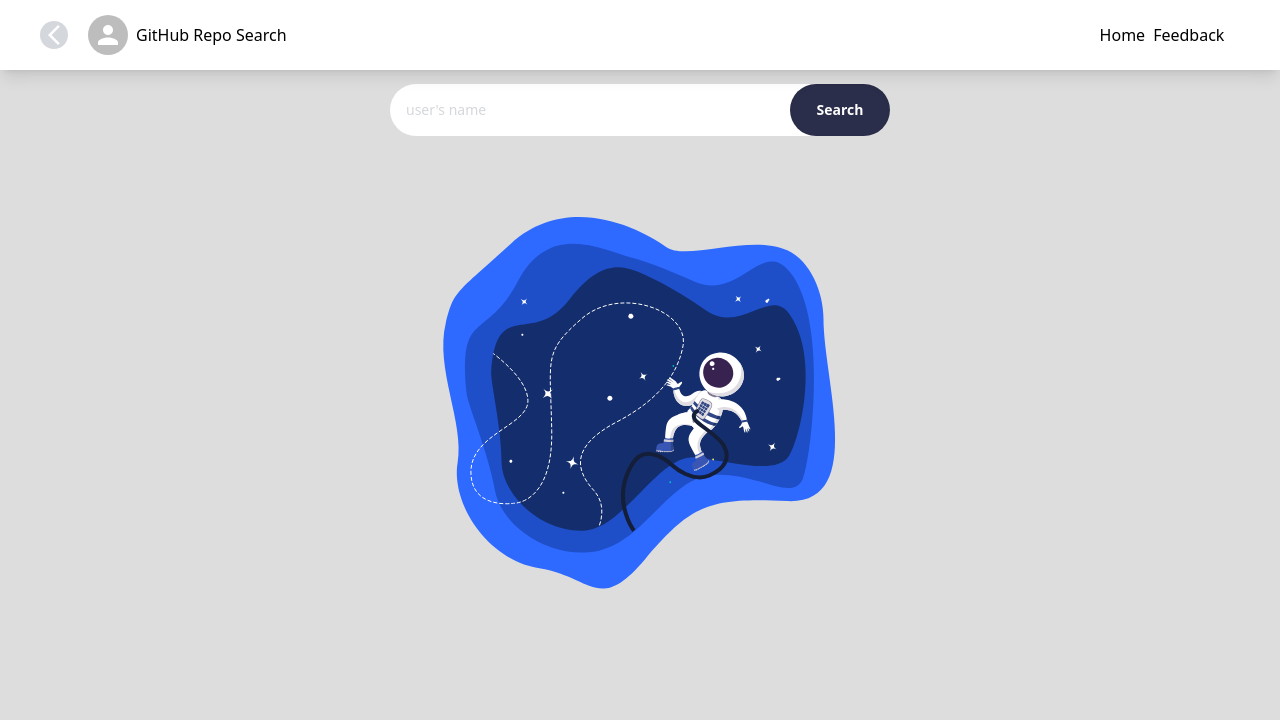
Scenario: Test HomePage search function, and navigation › Make sure searching without query string, and alert will show up
What coordinates should you click on to do the following:
click the button with id "searchBtn"
I would click on:
 (840, 110)
Its box is [790, 84, 890, 136].
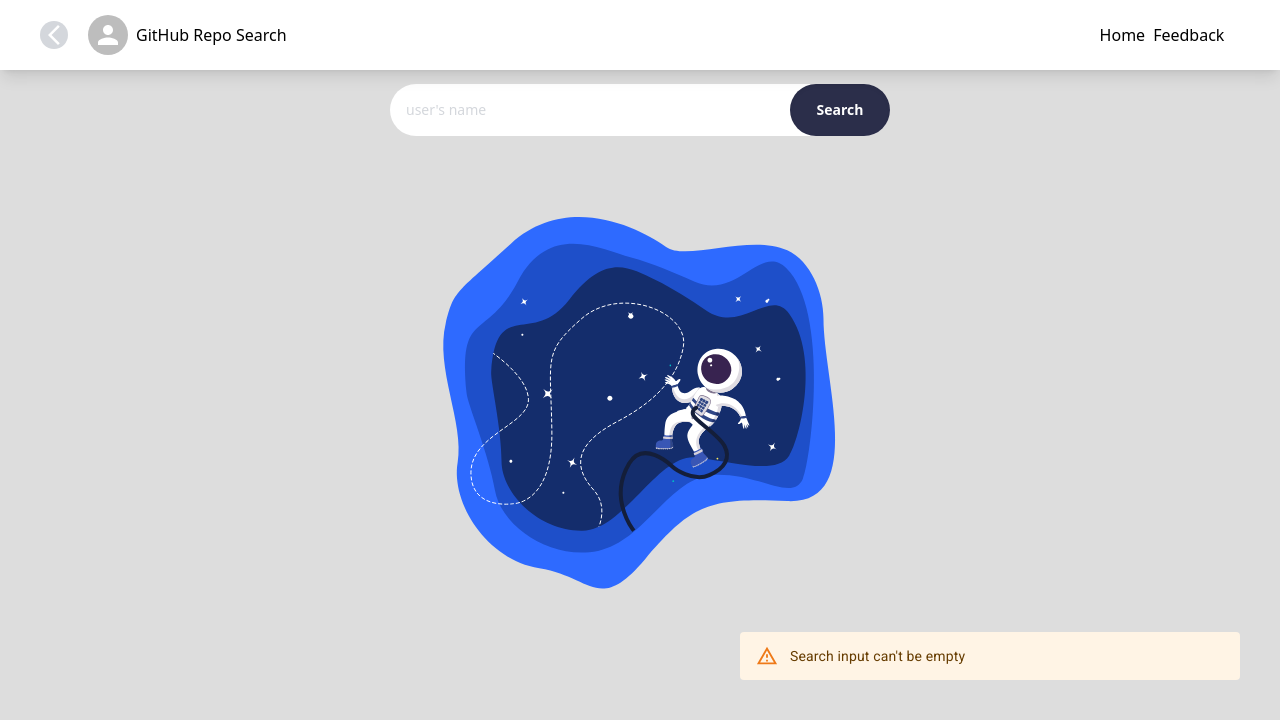
expect the text with id "alertLabel" reads "Search input can't be empty": met, box [790, 648, 965, 664]
expect the message "Search input can't be empty" is shown: met, box [740, 632, 1240, 680]
